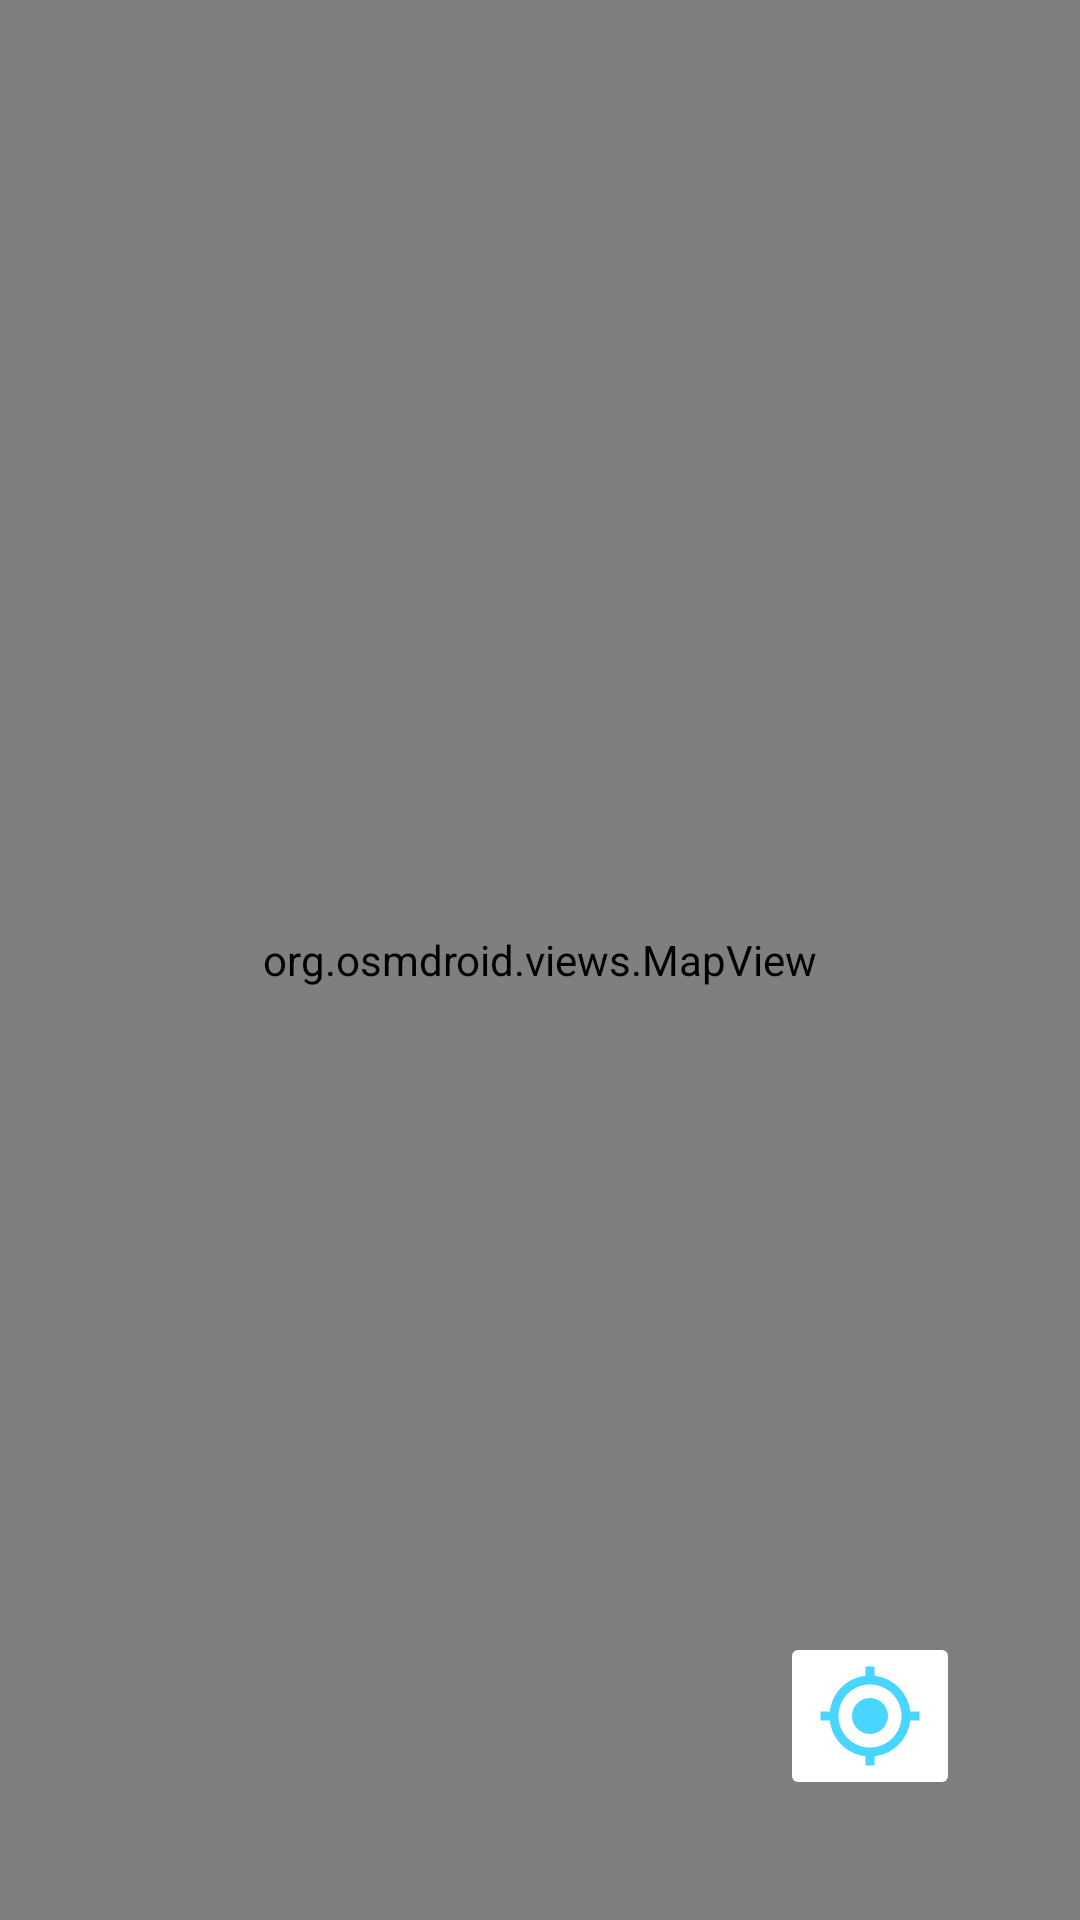

Where to tap for icons on this 1080w x 1920h app screen, as (x=x, y=y):
Center on me: (x=870, y=1716)
